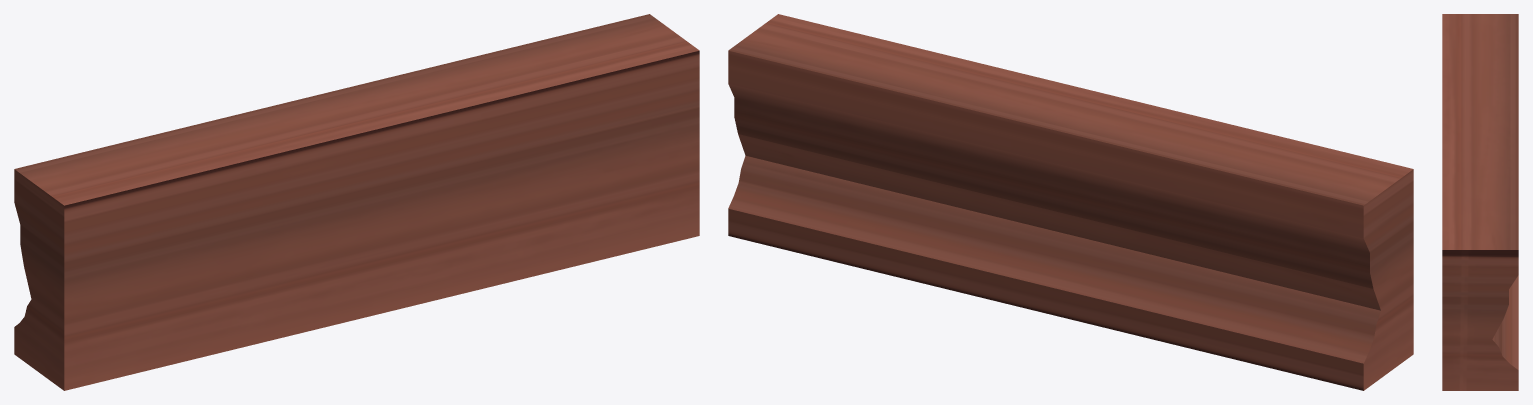
Rendered from Wall_Top.fbx.
The picture shows the model from 3 angles, left to right: view 1: azimuth 30°, elevation 25°; view 2: azimuth 150°, elevation 25°; view 3: azimuth 270°, elevation 25°; orthographic projection. The views are drawn at different scales.
Visible parts, largest first — view 1: pCube107; view 2: pCube107; view 3: pCube107.
Part boxes in pixels (x1,y1,x2,y2): pCube107: [14, 14, 699, 390]; pCube107: [728, 14, 1413, 390]; pCube107: [1442, 14, 1518, 390].
Size of the model in its own units: 1.1 by 0.15 by 0.3065.
